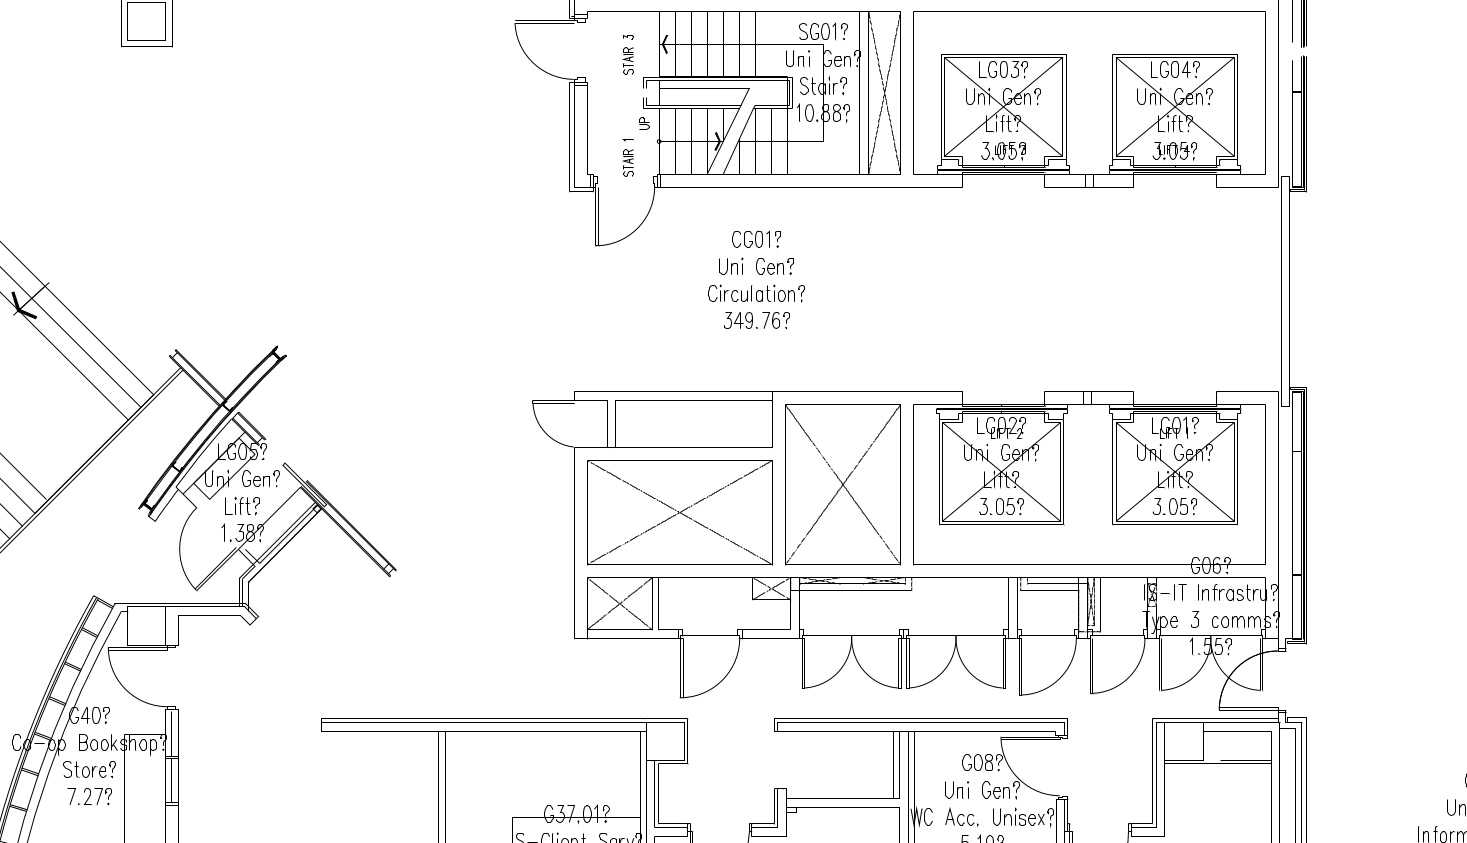door: (1151, 635, 1270, 695), (161, 504, 238, 594), (495, 10, 570, 98), (587, 186, 662, 274), (801, 636, 905, 694), (905, 637, 1009, 695), (995, 731, 1064, 806), (103, 641, 167, 714), (675, 636, 739, 709), (1014, 637, 1080, 698), (1081, 638, 1147, 699), (518, 395, 575, 462)
